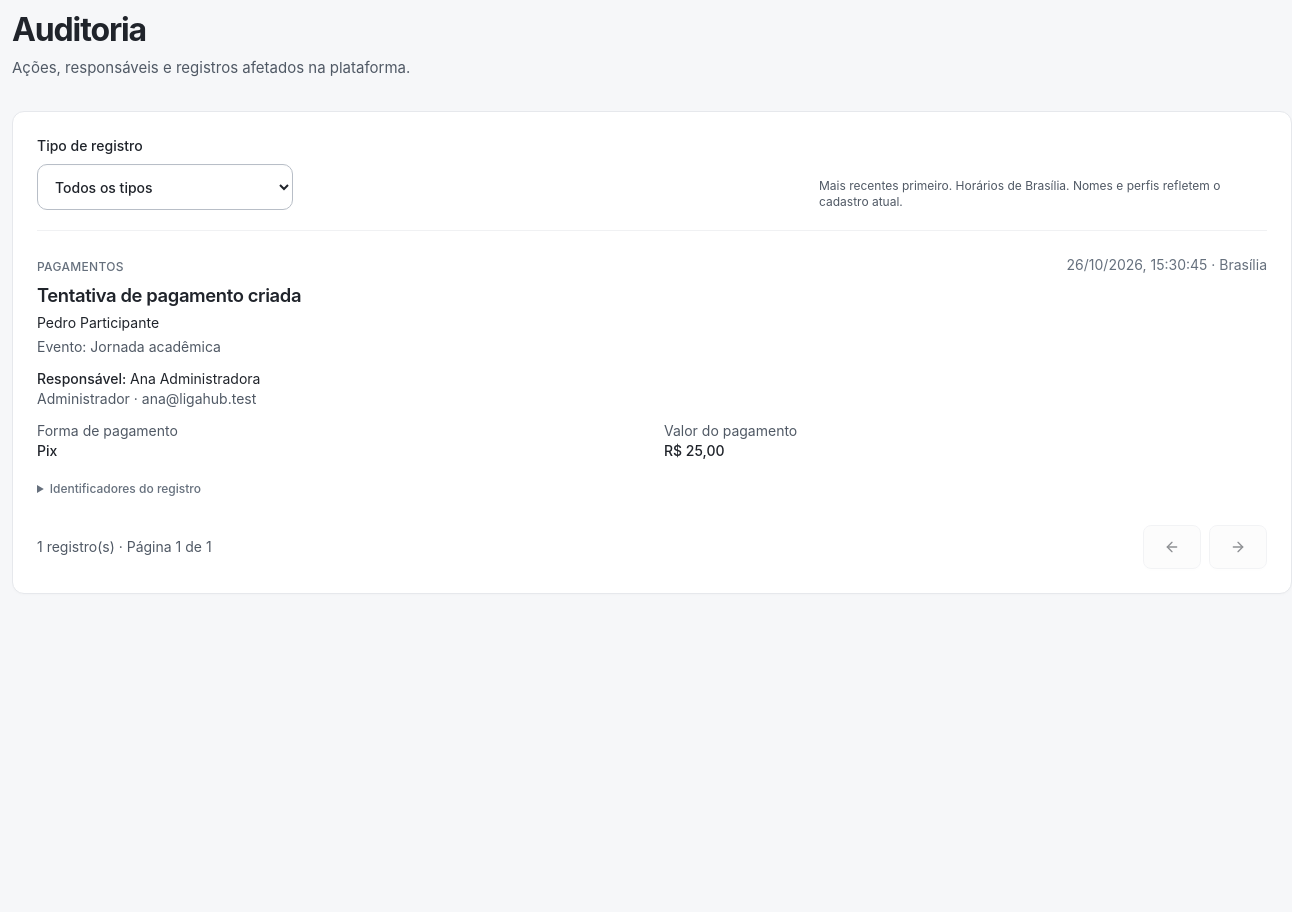
Auditoria do administrador › explica a ação, o responsável, o participante, o evento e o valor sem expor metadados privados
Expected: the text "Ana Administradora" is shown, x1=130 y1=370 x2=260 y2=387
Expected: the text "Pedro Participante" is shown, x1=37 y1=314 x2=159 y2=331
What coordinates should you click on to do the following:
click the heading "Identificadores do registro"
I would click on:
 (125, 489)
Its box is x1=50 y1=481 x2=201 y2=496.
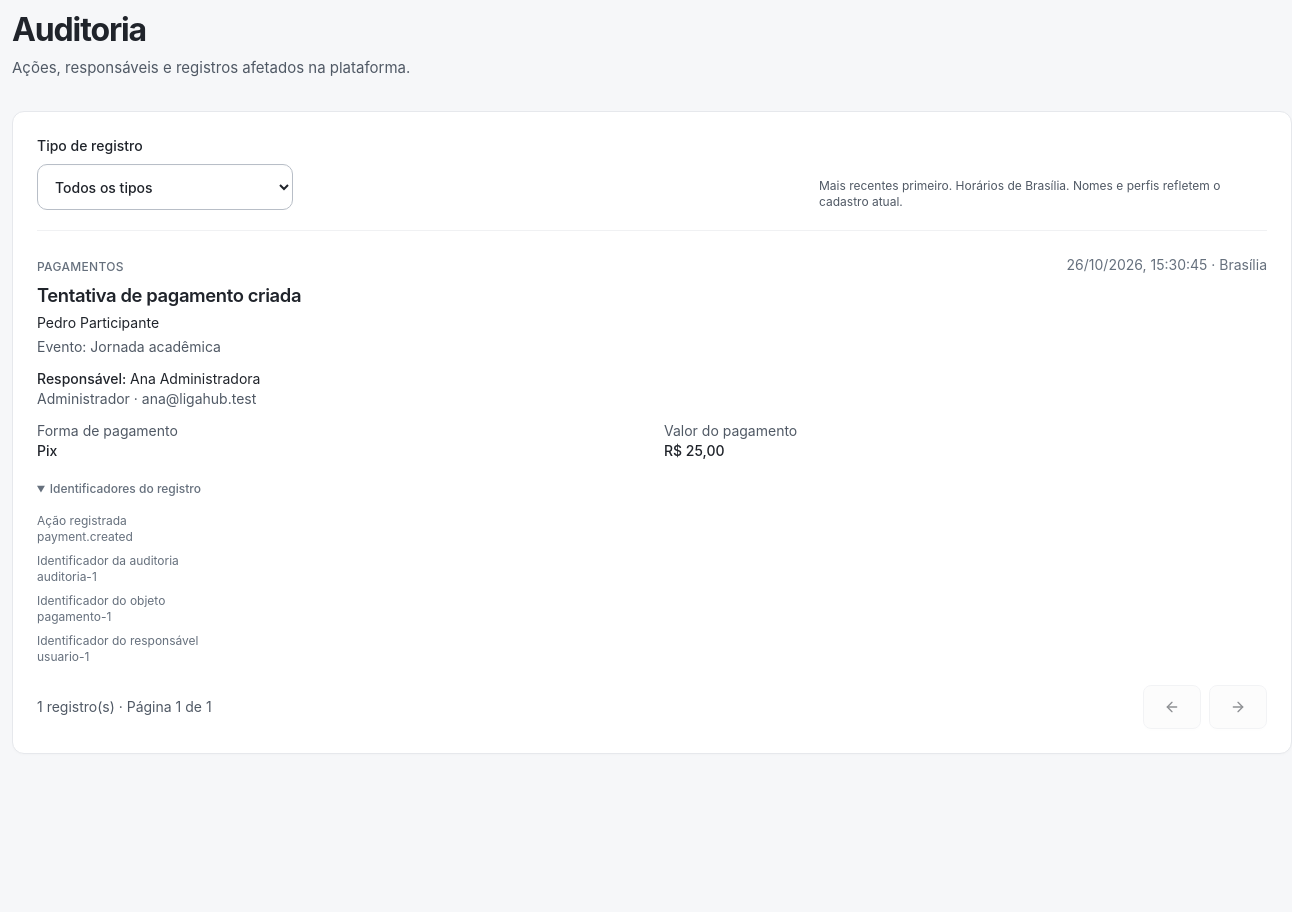
Expected: the text "pagamento-1" is shown, x1=37 y1=609 x2=111 y2=624
